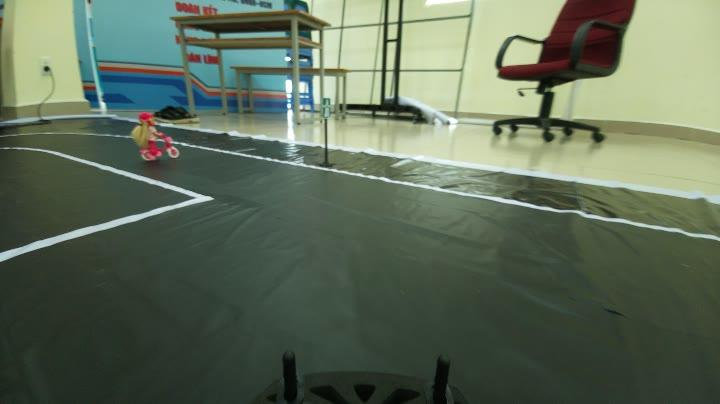pedestrian: (129, 112, 184, 157)
